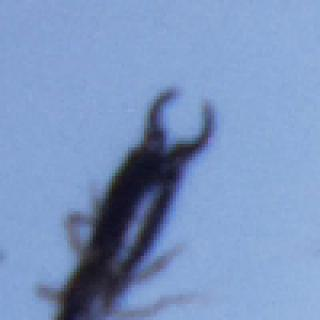earwig: (43, 84, 222, 320)
